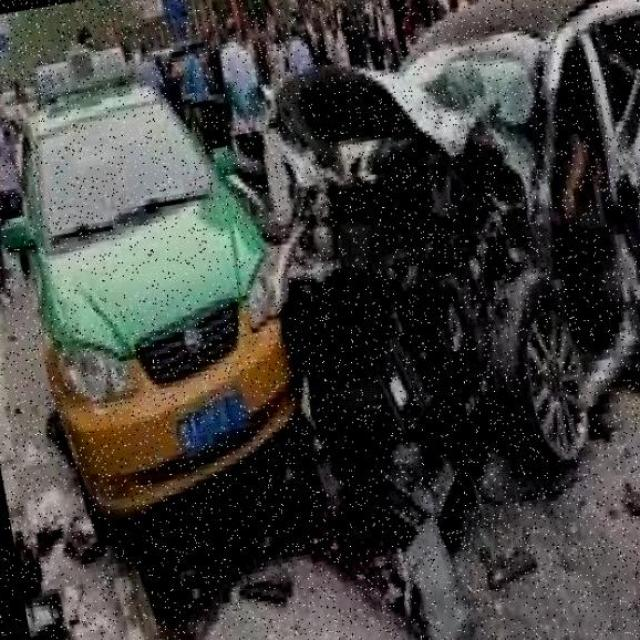accident: (141, 0, 640, 588)
